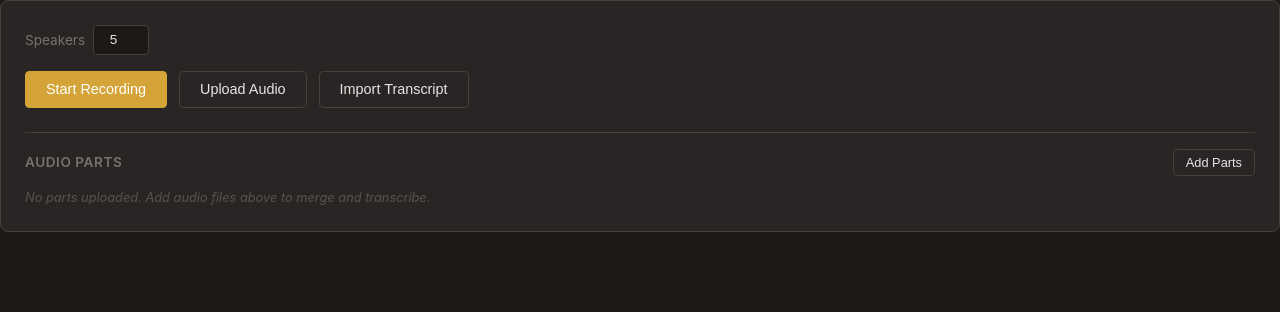
Scenario: RecordingControls › shows error when start recording fails with NotFoundError
Click the button "Start Recording" at (96, 89), box [25, 71, 167, 108]
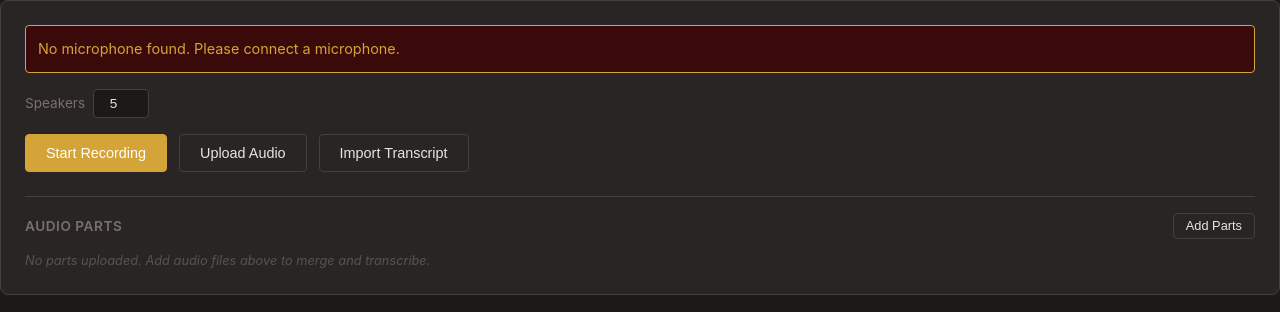
Check: the text "No microphone found. Please connect a microphone." is shown, box [25, 25, 1255, 73]
